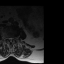CCS_normal: (10, 36, 11, 44)
LFS_severe_stenosis: (13, 35, 15, 40)
LLS_stenosis: (11, 35, 13, 41)
RFS_severe_stenosis: (6, 35, 8, 41)
RLS_normal: (8, 35, 9, 41)
